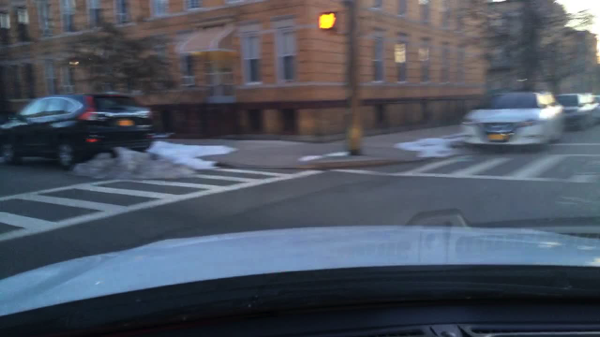car: (0, 92, 156, 173), (460, 90, 565, 150), (554, 93, 599, 132)
traffic light: (318, 11, 337, 34)
